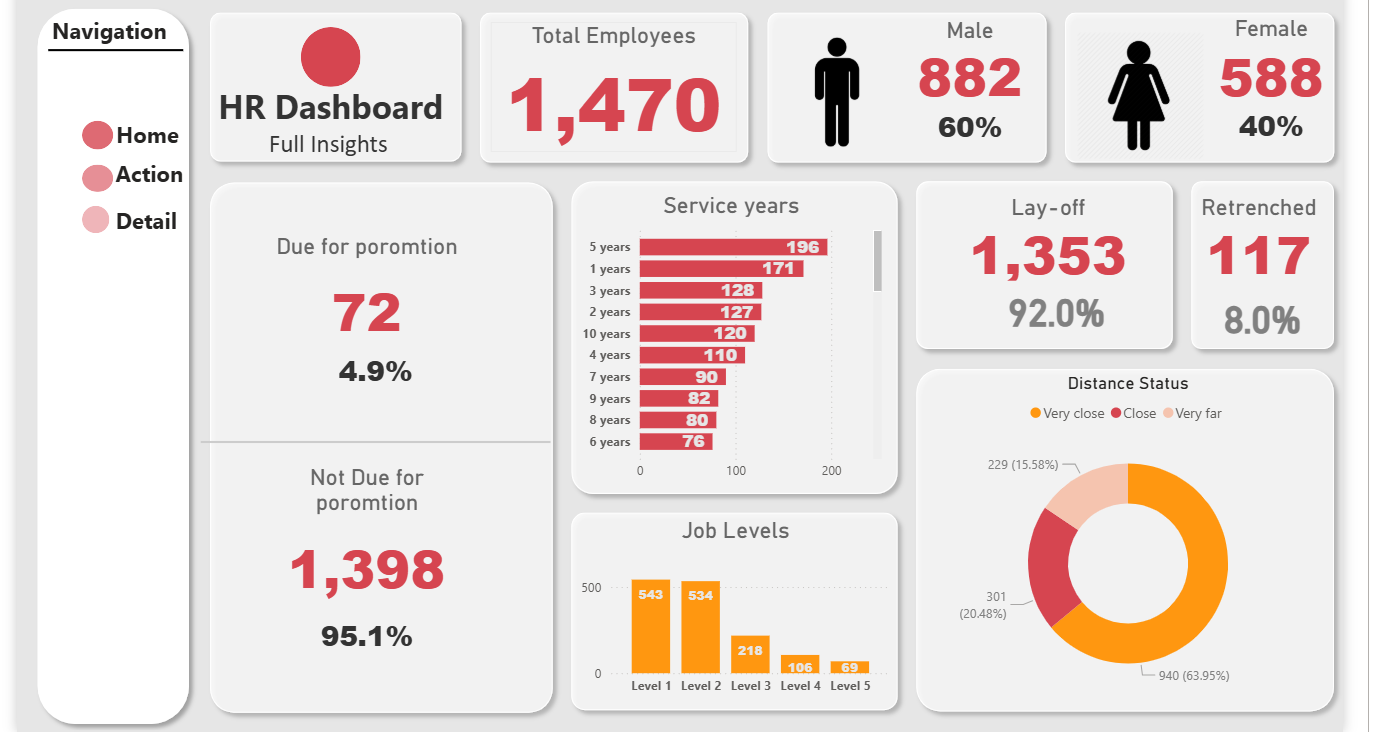

Layout of this report page (visuals, bound fields, positions):
{"tool":"powerbi","page":{"name":"Home","canvas":[1280,720],"ordinal":0},"visuals":[{"type":"shape","box":[10.9,12.1,164.1,708.2],"z":0},{"type":"shape","box":[177.3,15.7,260.6,161.7],"z":1000},{"type":"shape","box":[438.4,15.1,276.7,162.8],"z":2000},{"type":"shape","box":[1002.3,15.1,277.9,162.8],"z":3000},{"type":"shape","box":[715.1,15.1,287.2,162.8],"z":4000},{"type":"shape","box":[177.3,179.8,348.7,529.6],"z":5000},{"type":"shape","box":[526,178.6,333,319.7],"z":6000},{"type":"shape","box":[526,498.3,333,208.7],"z":7000},{"type":"shape","box":[859,178.6,265.4,179.8],"z":8000},{"type":"shape","box":[1124.4,178.6,155.6,179.8],"z":9000},{"type":"shape","box":[859,359.5,421,348.7],"z":10000},{"type":"textbox","box":[179.8,88.1,246.1,55.5],"z":11000},{"type":"textbox","box":[179.8,131.5,241.3,47.1],"z":12000},{"type":"shape","box":[273.9,38.6,57.9,57.9],"z":13000},{"type":"card","title":"Total Employees","fields":{"Values":["Dax functions.Total Emp"]},"box":[457.2,33.8,237.7,125.5],"z":14000},{"type":"card","title":"Male","fields":{"Values":["Dax functions.Male"]},"box":[848.1,29,143.6,86.9],"z":15000},{"type":"card","title":"Male","fields":{"Values":["Dax functions.% male"]},"box":[848.1,106.2,143.6,59.1],"z":16000},{"type":"card","title":"Female","fields":{"Values":["Dax functions.Female"]},"box":[1141.3,27.7,138.7,88.1],"z":17000},{"type":"card","title":"Male","fields":{"Values":["Dax functions.% female"]},"box":[1141.3,105,138.7,59.1],"z":18000},{"type":"image","box":[726.3,38.6,132.7,125.5],"z":19000},{"type":"image","box":[1012.2,38.6,144.8,132.7],"z":20000},{"type":"card","title":"Due for poromtion","fields":{"Values":["Dax functions.Due for promation"]},"box":[230.4,237.7,214.7,121.9],"z":21000},{"type":"card","fields":{"Values":["Dax functions.% Due for promation"]},"box":[278.7,324.5,135.1,94.1],"z":22000},{"type":"card","title":"Not Due for poromtion","fields":{"Values":["Dax functions.Not due"]},"box":[237.7,460.9,200.3,148.4],"z":23000},{"type":"card","fields":{"Values":["Dax functions.% Not due"]},"box":[282.3,581.5,111,90.5],"z":24000},{"type":"shape","box":[177.3,433.1,337.8,12.1],"z":25000},{"type":"barChart","title":"Service years","fields":{"Category":["HR Analytics Data.Service years"],"Y":["Dax functions.Total Emp"]},"box":[539.3,197.9,300.4,287.1],"z":26000},{"type":"columnChart","title":"Job Levels","fields":{"Category":["HR Analytics Data.Job levels"],"Y":["Dax functions.Total Emp"]},"box":[539.3,511.5,308.8,181],"z":27000},{"type":"card","title":"Retrenched","fields":{"Values":["Dax functions.Retrenched"]},"box":[1129.2,200.3,138.7,88.1],"z":28000},{"type":"card","title":"Male","fields":{"Values":["Dax functions.% Retrenched"]},"box":[1132.8,288.3,138.7,59.1],"z":29000},{"type":"card","title":"Lay-off","fields":{"Values":["Dax functions.Lay-off"]},"box":[907.2,200.3,176.1,88.1],"z":30000},{"type":"card","title":"Male","fields":{"Values":["Dax functions.% Lay-off"]},"box":[933.8,282.3,138.7,59.1],"z":31000},{"type":"donutChart","title":"Distance Status","fields":{"Category":["HR Analytics Data.Distance status"],"Y":["Dax functions.Total Emp"]},"box":[877.1,371.6,390.9,320.9],"z":32000},{"type":"textbox","box":[24.1,21.7,130.3,39.8],"z":33000},{"type":"shape","box":[30.2,54.3,130.3,13.3],"z":34000},{"type":"shape","box":[62.7,129.1,30.2,27.7],"z":35000},{"type":"shape","box":[62.7,171.3,30.2,26.5],"z":36000},{"type":"shape","box":[62.7,211.1,26.5,26.5],"z":37000},{"type":"textbox","box":[82,105,88.1,61.5],"z":38000},{"type":"textbox","box":[62.7,160.5,130.3,39.8],"z":39000},{"type":"textbox","box":[72.4,205.1,105,39.8],"z":40000}]}

Visuals, with their boxes on the page's 1280x720 design canvas (x1, y1, x2, y2). These are canvas units, not pixel positions in the 1377x732 screenshot, which may show the page scaled, cropped or inside an application window:
shape: rect(11, 12, 175, 720)
shape: rect(177, 16, 438, 177)
shape: rect(438, 15, 715, 178)
shape: rect(1002, 15, 1280, 178)
shape: rect(715, 15, 1002, 178)
shape: rect(177, 180, 526, 709)
shape: rect(526, 179, 859, 498)
shape: rect(526, 498, 859, 707)
shape: rect(859, 179, 1124, 358)
shape: rect(1124, 179, 1280, 358)
shape: rect(859, 360, 1280, 708)
textbox: rect(180, 88, 426, 144)
textbox: rect(180, 132, 421, 179)
shape: rect(274, 39, 332, 96)
"Total Employees" card: rect(457, 34, 695, 159)
"Male" card: rect(848, 29, 992, 116)
"Male" card: rect(848, 106, 992, 165)
"Female" card: rect(1141, 28, 1280, 116)
"Male" card: rect(1141, 105, 1280, 164)
image: rect(726, 39, 859, 164)
image: rect(1012, 39, 1157, 171)
"Due for poromtion" card: rect(230, 238, 445, 360)
card - Dax functions.% Due for promation: rect(279, 324, 414, 419)
"Not Due for poromtion" card: rect(238, 461, 438, 609)
card - Dax functions.% Not due: rect(282, 582, 393, 672)
shape: rect(177, 433, 515, 445)
"Service years" barChart: rect(539, 198, 840, 485)
"Job Levels" columnChart: rect(539, 512, 848, 692)
"Retrenched" card: rect(1129, 200, 1268, 288)
"Male" card: rect(1133, 288, 1272, 347)
"Lay-off" card: rect(907, 200, 1083, 288)
"Male" card: rect(934, 282, 1072, 341)
"Distance Status" donutChart: rect(877, 372, 1268, 692)
textbox: rect(24, 22, 154, 62)
shape: rect(30, 54, 160, 68)
shape: rect(63, 129, 93, 157)
shape: rect(63, 171, 93, 198)
shape: rect(63, 211, 89, 238)
textbox: rect(82, 105, 170, 166)
textbox: rect(63, 160, 193, 200)
textbox: rect(72, 205, 177, 245)
